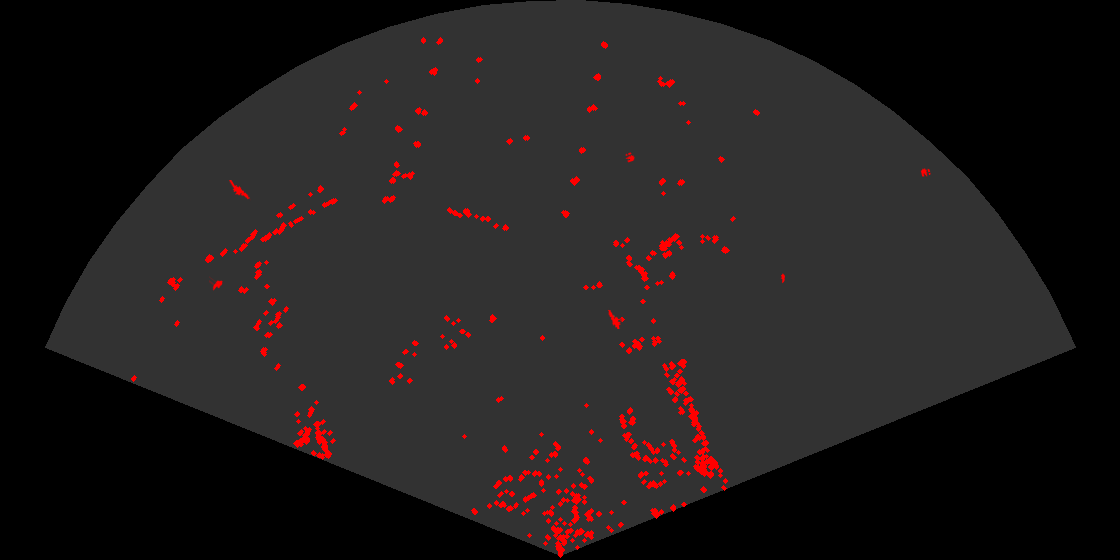AUV: (209, 276, 224, 292), (779, 272, 785, 284)
ball: (624, 151, 636, 164), (919, 167, 932, 178)
frogman: (229, 180, 251, 202), (606, 308, 622, 329)
